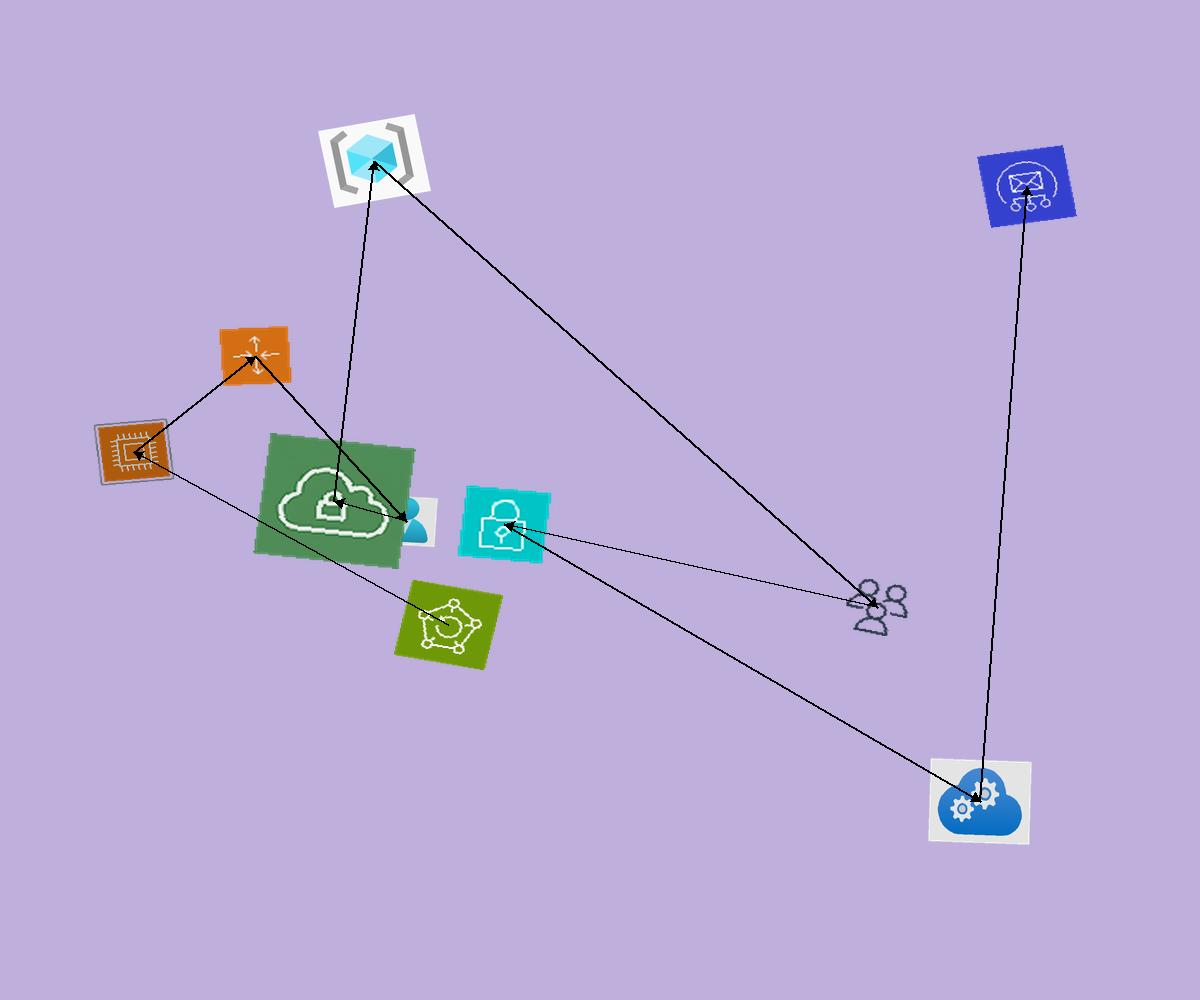AWS-Backup: (393, 579, 504, 671)
AWS-Category_Compute: (93, 418, 175, 486)
AWS-Private-subnet: (456, 484, 553, 565)
AWS-Private_vpc: (253, 433, 416, 569)
AWS-Res_Users: (835, 572, 920, 643)
AWS-Scaling-group: (218, 325, 293, 387)
AWS-Simple-Email-Service: (977, 145, 1077, 228)
Azure_cloud_services: (928, 758, 1032, 845)
Azure_resource_group: (318, 114, 431, 208)
Azure_users: (375, 495, 438, 547)
